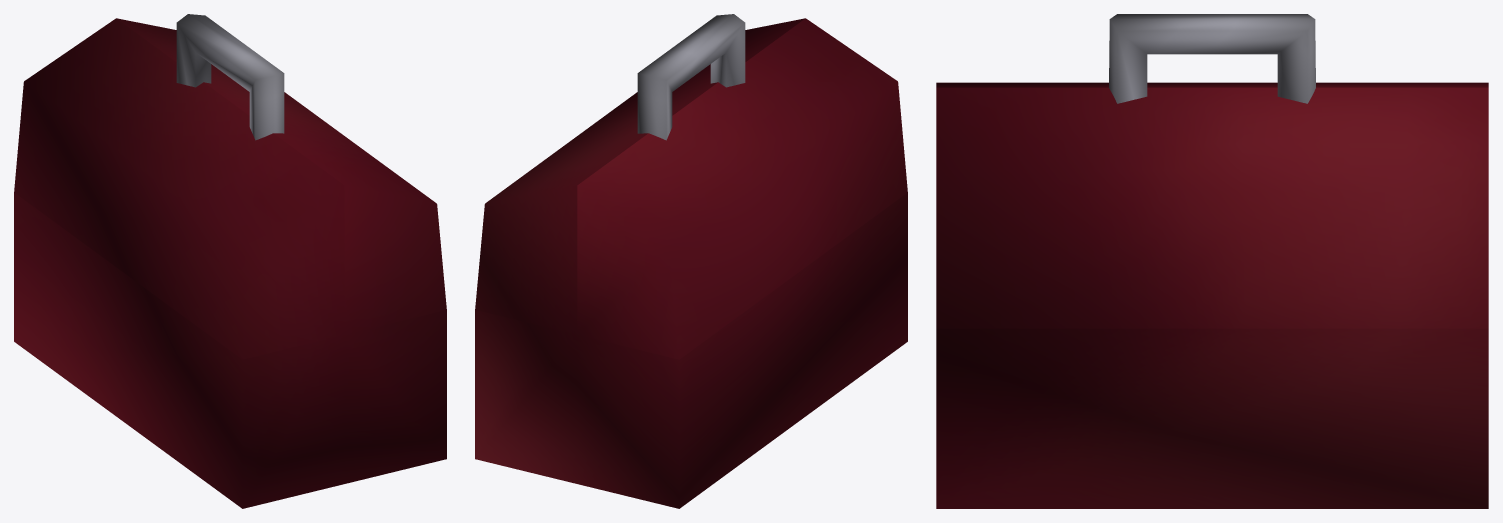
Rendered from Toolbox_DS.fbx.
3 views of the same model, side by side, from view 1: azimuth 30°, elevation 25°; view 2: azimuth 150°, elevation 25°; view 3: azimuth 270°, elevation 25° (orthographic). The views are drawn at different scales.
Visible parts, largest first — view 1: Toolbox; view 2: Toolbox; view 3: Toolbox.
Boxes of the visible parts, x1,y1,x2,y2 form: Toolbox: (14,14,446,508); Toolbox: (475,14,907,508); Toolbox: (936,14,1488,508).
Size of the model in its own units: 50.33 by 83.65 by 97.53.
Materials: 1 (1 with a texture image).
